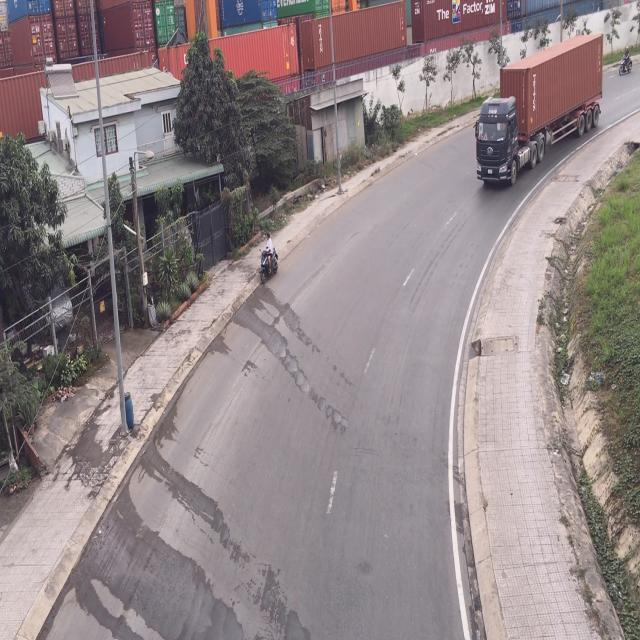motorbike: (261, 237, 280, 287), (620, 42, 634, 78)
truck: (476, 39, 606, 193)
